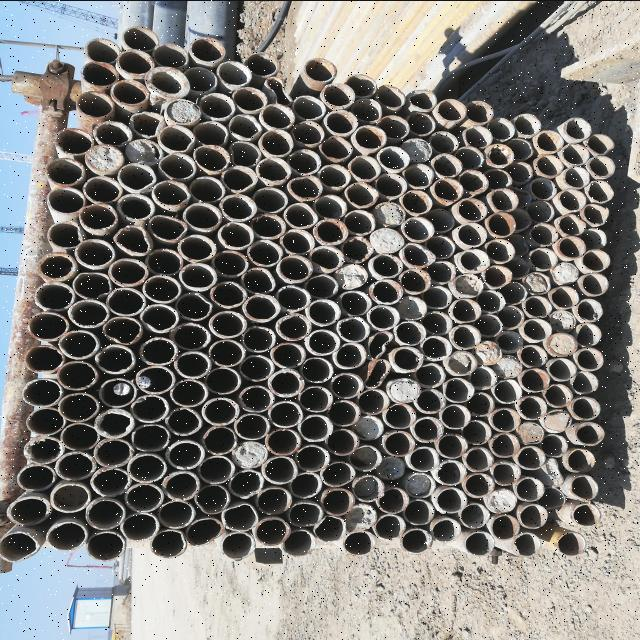pipe: (144, 65, 190, 98), (6, 495, 54, 525), (66, 297, 110, 328), (85, 496, 125, 530), (74, 237, 116, 269), (46, 519, 88, 551), (126, 451, 168, 483), (56, 392, 100, 422), (0, 530, 40, 562), (112, 223, 152, 255), (93, 406, 133, 438), (15, 461, 57, 491), (58, 328, 100, 358), (56, 360, 98, 390), (49, 482, 91, 512), (89, 466, 131, 496), (93, 437, 133, 468), (35, 252, 79, 280), (138, 302, 179, 332), (54, 451, 96, 480), (178, 260, 217, 291), (22, 376, 62, 406), (78, 202, 118, 232), (116, 162, 156, 192), (96, 344, 136, 374), (86, 531, 126, 561), (142, 272, 182, 302), (136, 364, 176, 394), (120, 512, 160, 542), (178, 232, 218, 262), (166, 438, 206, 468), (160, 470, 200, 500), (22, 344, 64, 372), (71, 270, 113, 298), (101, 315, 143, 343), (124, 482, 163, 512), (201, 396, 240, 426), (60, 421, 100, 450), (34, 281, 75, 309), (27, 311, 68, 339), (23, 434, 64, 462), (108, 258, 149, 286), (195, 92, 236, 120), (130, 423, 171, 451), (84, 143, 122, 173), (98, 377, 136, 407), (148, 212, 186, 242), (131, 392, 169, 422), (165, 406, 203, 436), (208, 336, 246, 366), (260, 454, 298, 484), (81, 175, 123, 202), (156, 499, 195, 528), (44, 157, 84, 185), (116, 192, 156, 220), (152, 178, 192, 206), (138, 336, 178, 364), (182, 202, 222, 230), (172, 350, 212, 378), (208, 310, 248, 338), (194, 483, 230, 514), (198, 454, 235, 484), (116, 48, 154, 77), (188, 35, 226, 64), (242, 292, 280, 321), (75, 89, 114, 117), (229, 467, 264, 498), (124, 137, 164, 164), (150, 528, 186, 558), (218, 220, 254, 250), (222, 500, 258, 530), (276, 283, 312, 313), (268, 366, 304, 396), (210, 279, 247, 308), (186, 517, 223, 546), (237, 383, 274, 412), (55, 126, 93, 154), (110, 78, 148, 106), (106, 286, 144, 314), (192, 144, 230, 172), (170, 378, 208, 406), (218, 192, 256, 220), (200, 425, 238, 453), (254, 517, 292, 545), (120, 24, 160, 50), (93, 120, 133, 146), (158, 152, 198, 178), (146, 248, 183, 276), (188, 174, 225, 202), (231, 440, 268, 468), (275, 312, 312, 340), (46, 186, 84, 213), (172, 322, 210, 349), (221, 530, 255, 560), (177, 291, 212, 320), (165, 97, 201, 125), (216, 58, 252, 86), (206, 366, 242, 394), (246, 238, 282, 266), (241, 266, 277, 294), (277, 254, 313, 282), (267, 400, 303, 428), (265, 427, 301, 455), (297, 384, 333, 412), (296, 414, 332, 442), (294, 442, 330, 470), (312, 218, 349, 245), (26, 407, 64, 433), (319, 460, 357, 486), (259, 128, 294, 156), (255, 156, 290, 184), (350, 474, 385, 502), (47, 220, 83, 247), (153, 42, 189, 69), (158, 125, 194, 152), (251, 186, 287, 213), (270, 341, 306, 368), (308, 245, 344, 272), (369, 226, 405, 253), (130, 110, 164, 138), (184, 64, 218, 92), (242, 325, 276, 353), (317, 162, 351, 190), (306, 298, 340, 326), (282, 527, 316, 555), (344, 180, 378, 208), (327, 398, 361, 426), (314, 514, 348, 542), (372, 512, 406, 540), (399, 526, 433, 554), (232, 414, 270, 439), (80, 61, 119, 85), (244, 50, 280, 76), (228, 113, 264, 139), (222, 164, 258, 190), (260, 102, 296, 128), (283, 202, 319, 228), (280, 228, 316, 254), (320, 82, 356, 108), (322, 108, 358, 134), (317, 134, 353, 160), (342, 530, 378, 556), (442, 350, 478, 376), (377, 143, 409, 172), (232, 84, 266, 111), (240, 354, 274, 381), (333, 342, 367, 369), (252, 212, 287, 238), (354, 124, 389, 150), (347, 154, 382, 180), (334, 262, 369, 288), (373, 172, 408, 198), (368, 278, 403, 304), (288, 147, 320, 175), (301, 355, 333, 383), (346, 502, 378, 530), (436, 485, 468, 513), (194, 120, 228, 146), (212, 250, 246, 276), (304, 56, 338, 82), (292, 94, 326, 120), (288, 174, 322, 200), (256, 486, 290, 512), (306, 328, 340, 354), (289, 500, 323, 526), (342, 208, 376, 234), (342, 236, 376, 262), (337, 290, 371, 316), (329, 372, 363, 398), (325, 428, 359, 454), (321, 488, 355, 514), (401, 215, 435, 241), (398, 268, 432, 294), (384, 402, 418, 428), (336, 316, 371, 341), (405, 498, 436, 526), (374, 200, 406, 227), (350, 444, 382, 471), (412, 415, 444, 442), (352, 414, 385, 440), (403, 472, 436, 498), (84, 37, 118, 62), (374, 487, 408, 512), (448, 323, 482, 348), (462, 418, 492, 446), (228, 140, 260, 166), (294, 119, 326, 145), (314, 192, 346, 218), (367, 304, 399, 330), (403, 162, 435, 188), (401, 188, 433, 214), (394, 319, 426, 345), (392, 346, 424, 372), (389, 376, 421, 402), (384, 430, 416, 456), (432, 151, 464, 177), (420, 334, 452, 360), (414, 362, 446, 388), (456, 196, 488, 222), (483, 141, 515, 167), (514, 475, 546, 501), (401, 243, 435, 267), (409, 445, 439, 472), (352, 96, 383, 122), (488, 186, 519, 212), (463, 446, 494, 472), (491, 514, 522, 540), (344, 72, 376, 97), (378, 113, 410, 138), (370, 252, 402, 277), (357, 388, 389, 413), (442, 377, 474, 402), (462, 530, 494, 555), (516, 394, 548, 419), (567, 474, 599, 499), (570, 501, 602, 526), (458, 248, 491, 272), (264, 76, 292, 104), (308, 272, 338, 298), (290, 472, 320, 498), (376, 83, 406, 109), (436, 96, 466, 122), (459, 168, 489, 194), (454, 272, 484, 298), (441, 402, 471, 428), (438, 432, 468, 458), (436, 459, 466, 485), (431, 516, 461, 542), (488, 211, 518, 237), (486, 238, 516, 264), (482, 263, 512, 289), (472, 340, 502, 366), (463, 471, 493, 497), (512, 530, 542, 556), (528, 246, 558, 272), (518, 502, 548, 528), (557, 530, 587, 556), (404, 111, 436, 135), (432, 177, 464, 201), (414, 388, 446, 412), (519, 367, 551, 391), (540, 457, 566, 486), (365, 358, 390, 388), (402, 136, 432, 161), (460, 502, 490, 527), (486, 487, 516, 512), (422, 310, 453, 334), (462, 124, 493, 148), (457, 222, 488, 246), (367, 331, 393, 359), (428, 206, 456, 232), (426, 232, 454, 258), (470, 364, 498, 390), (513, 111, 541, 137), (496, 353, 524, 379), (582, 270, 610, 296), (540, 432, 568, 458), (398, 295, 428, 319), (464, 100, 494, 124), (456, 145, 486, 169), (452, 298, 482, 322), (474, 313, 504, 337), (490, 406, 520, 430), (534, 152, 564, 176), (526, 198, 556, 222), (517, 342, 547, 366), (516, 444, 546, 468), (562, 116, 592, 140), (570, 396, 600, 420), (542, 408, 572, 432), (575, 421, 605, 445), (376, 455, 404, 480), (466, 391, 494, 416), (548, 356, 576, 381), (492, 460, 521, 484), (551, 285, 580, 309), (566, 448, 595, 472), (430, 129, 460, 152), (557, 235, 587, 258), (430, 258, 456, 284), (488, 116, 516, 140), (477, 289, 505, 313), (495, 378, 523, 402), (491, 432, 519, 456), (530, 176, 558, 200), (530, 222, 558, 246), (524, 294, 552, 318), (588, 154, 616, 178), (576, 298, 604, 322), (408, 88, 438, 110), (522, 318, 552, 340), (555, 213, 585, 235), (547, 332, 577, 354), (424, 285, 452, 308), (536, 129, 564, 152), (562, 142, 590, 165), (563, 165, 591, 188), (558, 187, 586, 210), (584, 202, 612, 225), (576, 347, 604, 370), (538, 486, 566, 509), (483, 166, 512, 188), (571, 371, 600, 393), (585, 132, 615, 153), (518, 420, 544, 444), (588, 178, 614, 202), (584, 247, 610, 271), (576, 322, 602, 346), (504, 138, 532, 160), (506, 160, 534, 182), (496, 330, 524, 352), (580, 226, 608, 248), (552, 261, 580, 283), (544, 384, 572, 406), (500, 304, 524, 328), (524, 272, 550, 294), (550, 309, 576, 331), (506, 279, 526, 305), (510, 208, 530, 230), (508, 233, 528, 255), (512, 256, 530, 280), (513, 186, 531, 206)
